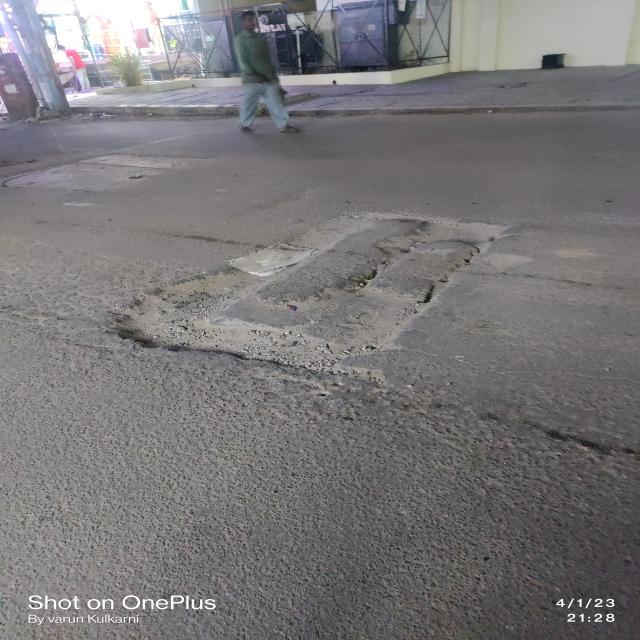potholes: (100, 201, 520, 386)
